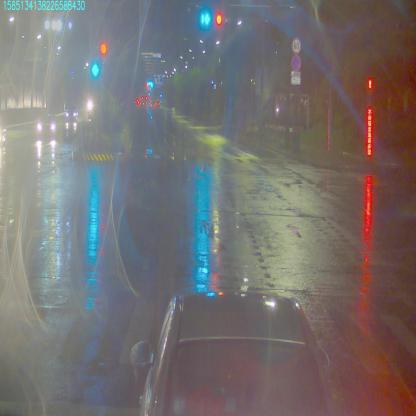traffic-light: (199, 10, 210, 26), (214, 13, 224, 25)
